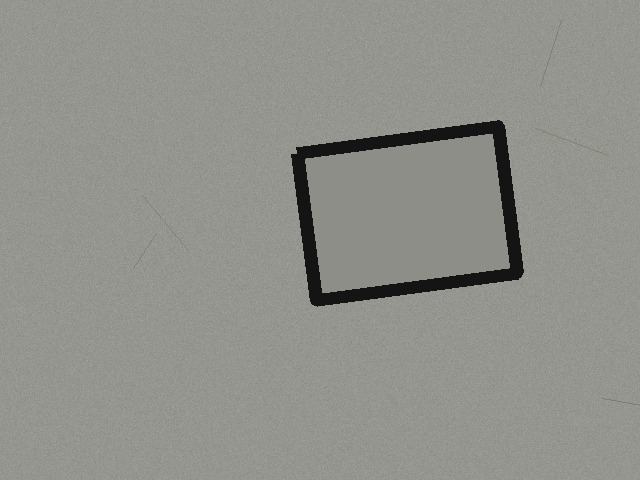parking_area: (297, 126, 517, 300)
